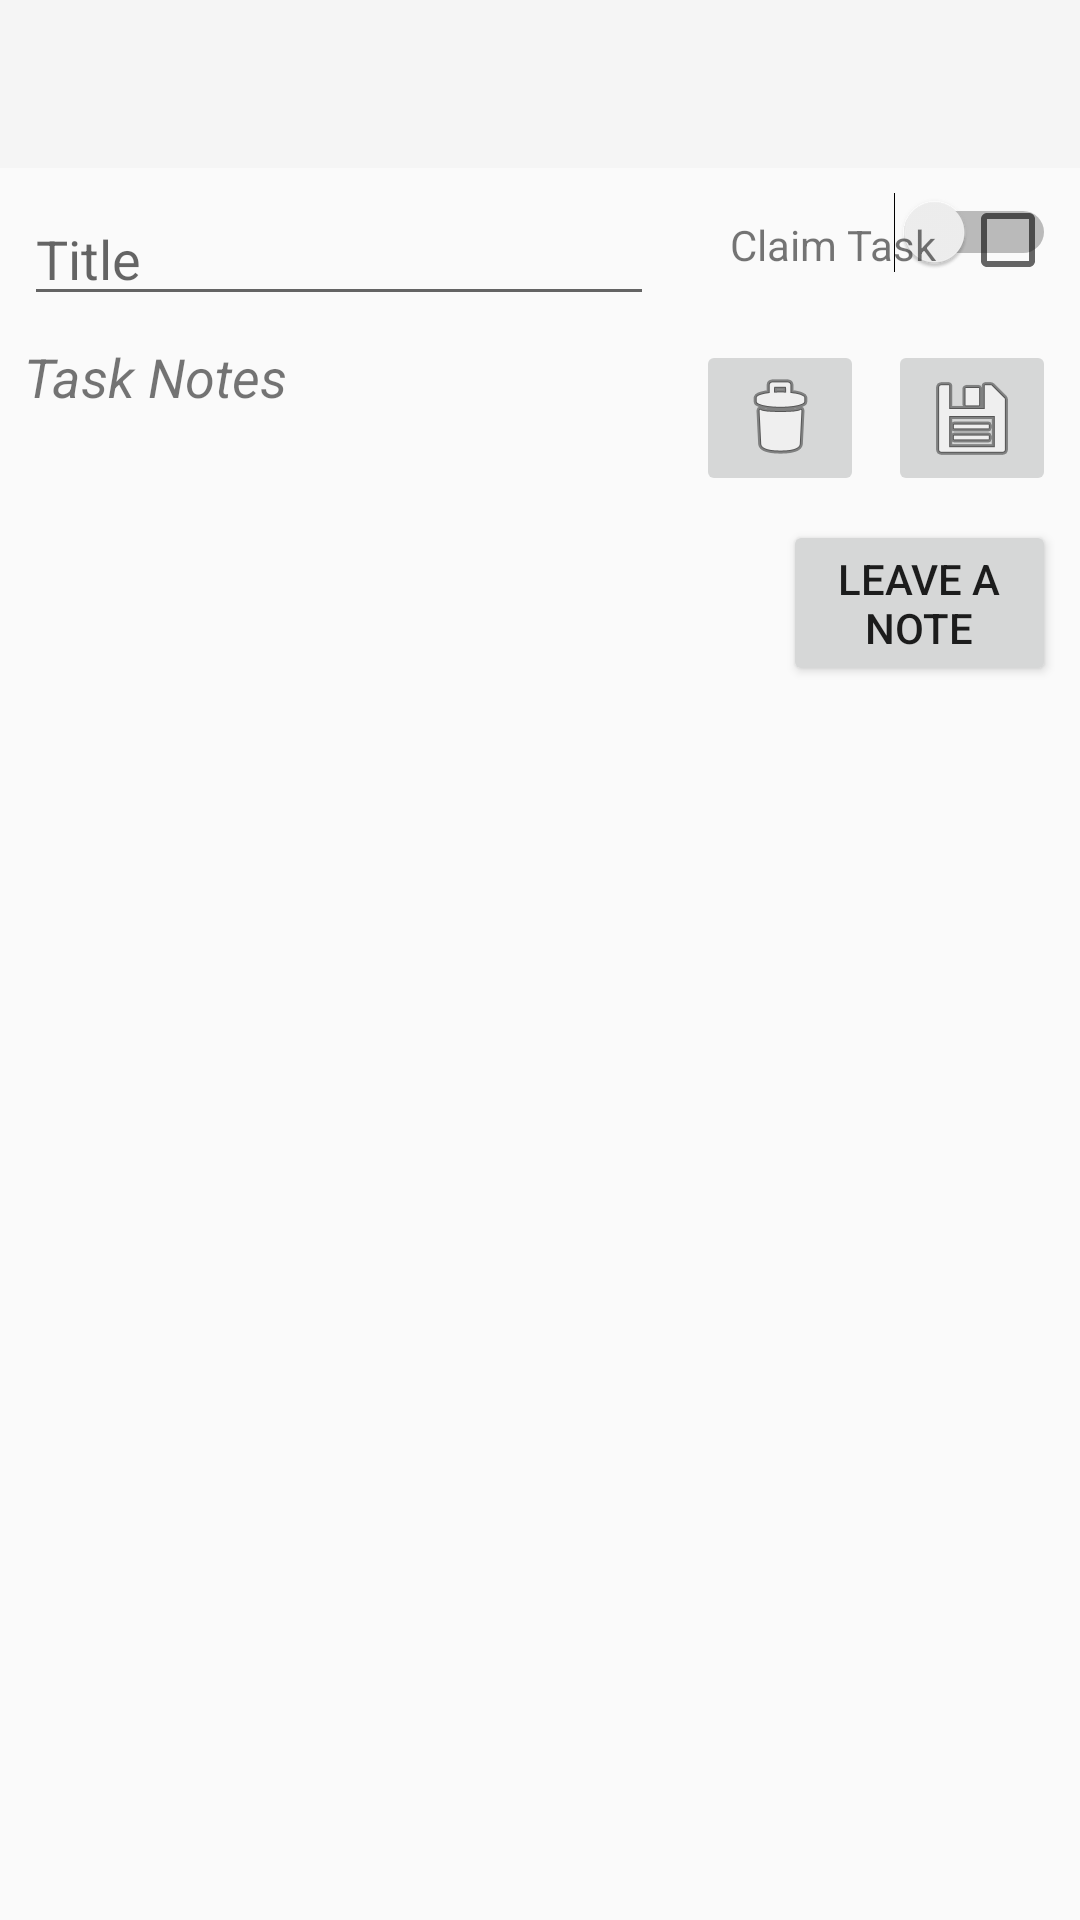

Icons on this 1080px×1920px Android screen, each with the point to tap as point (x, y):
delete: point (780, 418)
save: point (972, 418)
